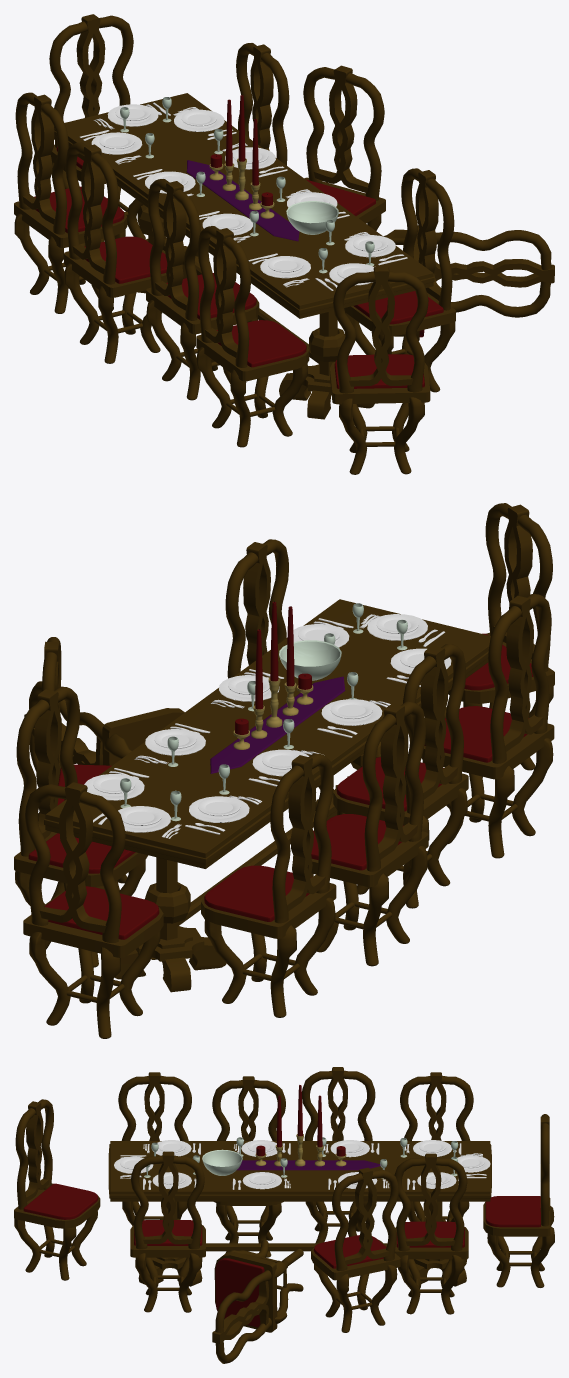
Rendered from dining room set.fbx.
3 renders of one model, top to bottom at view 1: azimuth 30°, elevation 25°; view 2: azimuth 150°, elevation 25°; view 3: azimuth 270°, elevation 25°, orthographic. The views are drawn at different scales.
Visible parts, largest first — view 1: polySurface16, polySurface103, pCube1, polySurface75, polySurface116, polySurface111, polySurface172, polySurface105, polySurface119, polySurface130, polySurface97, polySurface69 (+64 smaller); view 2: polySurface16, polySurface61, pCube1, polySurface49, polySurface47, polySurface41, polySurface63, polySurface75, polySurface60, polySurface74, polySurface102, polySurface46 (+60 smaller); view 3: polySurface16, polySurface159, polySurface117, polySurface47, pCube1, polySurface161, polySurface175, polySurface130, polySurface172, polySurface173, polySurface125, polySurface139 (+65 smaller).
Boxes of the visible parts, x1=… form: polySurface16: x1=54, y1=93, x2=434, y2=419; polySurface103: x1=216, y1=320, x2=306, y2=367; pCube1: x1=186, y1=160, x2=299, y2=241; polySurface75: x1=84, y1=236, x2=167, y2=283; polySurface116: x1=333, y1=271, x2=375, y2=393; polySurface111: x1=388, y1=271, x2=428, y2=392; polySurface172: x1=345, y1=73, x2=384, y2=200; polySurface105: x1=196, y1=335, x2=309, y2=381; polySurface119: x1=330, y1=361, x2=430, y2=404; polySurface130: x1=426, y1=178, x2=454, y2=310; polySurface97: x1=223, y1=237, x2=250, y2=367; polySurface69: x1=91, y1=153, x2=118, y2=284; polySurface16: x1=44, y1=599, x2=490, y2=992; polySurface61: x1=204, y1=865, x2=311, y2=921; pCube1: x1=210, y1=676, x2=345, y2=773; polySurface49: x1=23, y1=893, x2=163, y2=957; polySurface47: x1=44, y1=886, x2=159, y2=939; polySurface41: x1=79, y1=791, x2=125, y2=942; polySurface63: x1=201, y1=883, x2=336, y2=938; polySurface75: x1=311, y1=814, x2=403, y2=870; polySurface60: x1=270, y1=765, x2=303, y2=923; polySurface74: x1=362, y1=714, x2=396, y2=871; polySurface102: x1=488, y1=606, x2=521, y2=763; polySurface46: x1=25, y1=784, x2=66, y2=925; polySurface16: x1=108, y1=1141, x2=491, y2=1286; polySurface159: x1=215, y1=1258, x2=264, y2=1327; polySurface117: x1=23, y1=1183, x2=98, y2=1219; polySurface47: x1=485, y1=1196, x2=540, y2=1227; pCube1: x1=237, y1=1160, x2=380, y2=1170; polySurface161: x1=214, y1=1252, x2=277, y2=1332; polySurface175: x1=311, y1=1239, x2=400, y2=1280; polySurface130: x1=131, y1=1155, x2=163, y2=1249; polySurface172: x1=332, y1=1173, x2=363, y2=1270; polySurface173: x1=313, y1=1235, x2=386, y2=1268; polySurface125: x1=173, y1=1155, x2=204, y2=1249; polySurface139: x1=436, y1=1157, x2=467, y2=1251.
Size of the model in its own units: 15.26 by 9.07 by 23.31.
